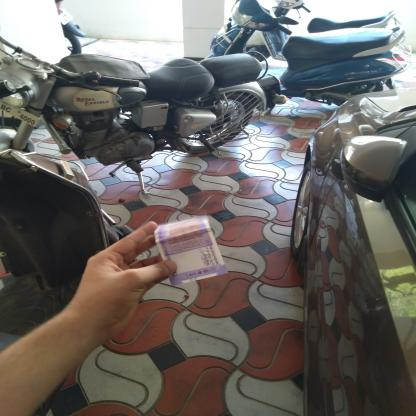New100Back: (157, 220, 221, 279)
